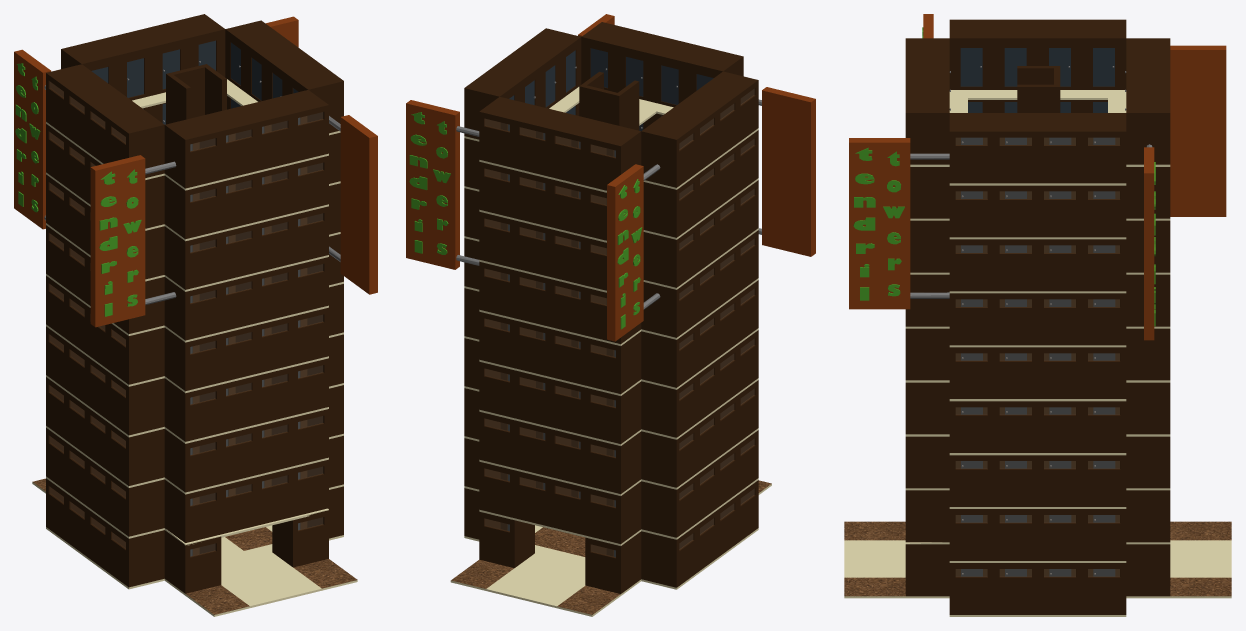
The model's file is Gourd Apartments 2.glb.
The picture shows the model from 3 angles, left to right: view 1: azimuth 30°, elevation 25°; view 2: azimuth 150°, elevation 25°; view 3: azimuth 270°, elevation 25°; orthographic projection. The views are drawn at different scales.
Visible parts, largest first — view 1: Floor.008, Floor, Floor.001, Floor.003, Floor.002, Floor.004, Floor.007, Floor.005, Floor.006, Posts, Posts.003, Posts.001 (+3 smaller); view 2: Floor.008, Floor, Floor.001, Floor.004, Floor.002, Floor.003, Floor.007, Floor.005, Floor.006, Posts, Posts.002, Posts.001 (+2 smaller); view 3: Floor.008, Floor, Floor.007, Floor.003, Floor.004, Floor.001, Floor.002, Floor.006, Floor.005, Posts.001, Posts.003, Sign Text.002 (+2 smaller).
Part boxes in pixels (x1,y1,x2,y2): Floor.008: [46, 14, 343, 190]; Floor: [32, 478, 357, 616]; Floor.001: [46, 428, 343, 545]; Floor.003: [46, 326, 343, 443]; Floor.002: [46, 377, 343, 494]; Floor.004: [46, 276, 343, 393]; Floor.007: [46, 96, 340, 241]; Floor.005: [46, 225, 343, 342]; Floor.006: [46, 174, 340, 291]; Posts: [90, 155, 176, 327]; Posts.003: [329, 115, 377, 294]; Posts.001: [14, 49, 51, 229]; Floor.008: [464, 22, 758, 192]; Floor: [450, 480, 771, 616]; Floor.001: [464, 430, 758, 545]; Floor.004: [464, 280, 758, 395]; Floor.002: [464, 380, 758, 495]; Floor.003: [464, 330, 758, 445]; Floor.007: [464, 103, 758, 242]; Floor.005: [464, 230, 758, 345]; Floor.006: [464, 180, 758, 292]; Posts: [758, 87, 815, 256]; Posts.002: [406, 100, 479, 269]; Posts.001: [607, 164, 660, 341]; Floor.008: [905, 19, 1170, 185]; Floor: [844, 521, 1231, 616]; Floor.007: [910, 100, 1170, 239]; Floor.003: [905, 382, 1170, 455]; Floor.004: [905, 328, 1170, 401]; Floor.001: [905, 490, 1170, 562]; Floor.002: [905, 436, 1170, 508]; Floor.006: [910, 220, 1170, 293]; Floor.005: [905, 274, 1170, 347]; Posts.001: [1170, 45, 1226, 216]; Posts.003: [849, 138, 949, 309]; Sign Text.002: [853, 27, 1155, 326].
Size of the model in its own units: 18.73 by 26.6 by 19.24.
12 materials, 1 textured.
